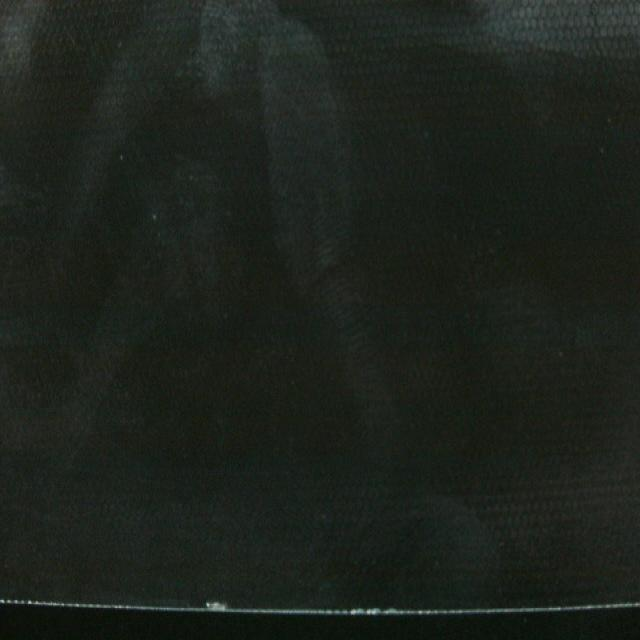edge_chip: (199, 586, 239, 632)
